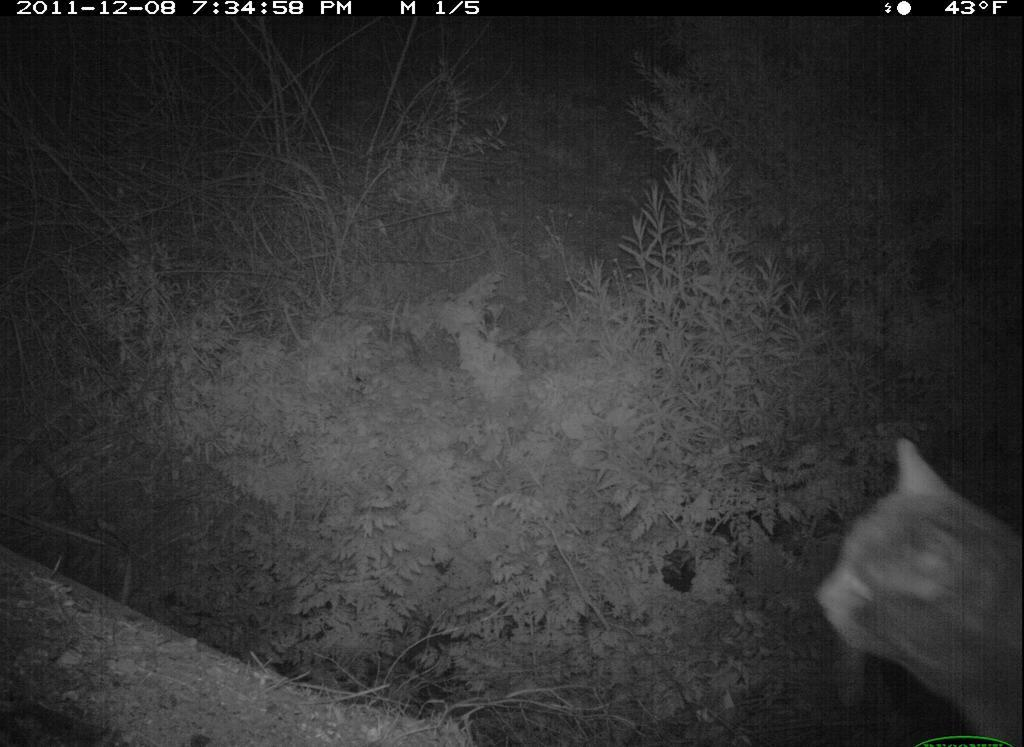cat: (813, 431, 1022, 747)
